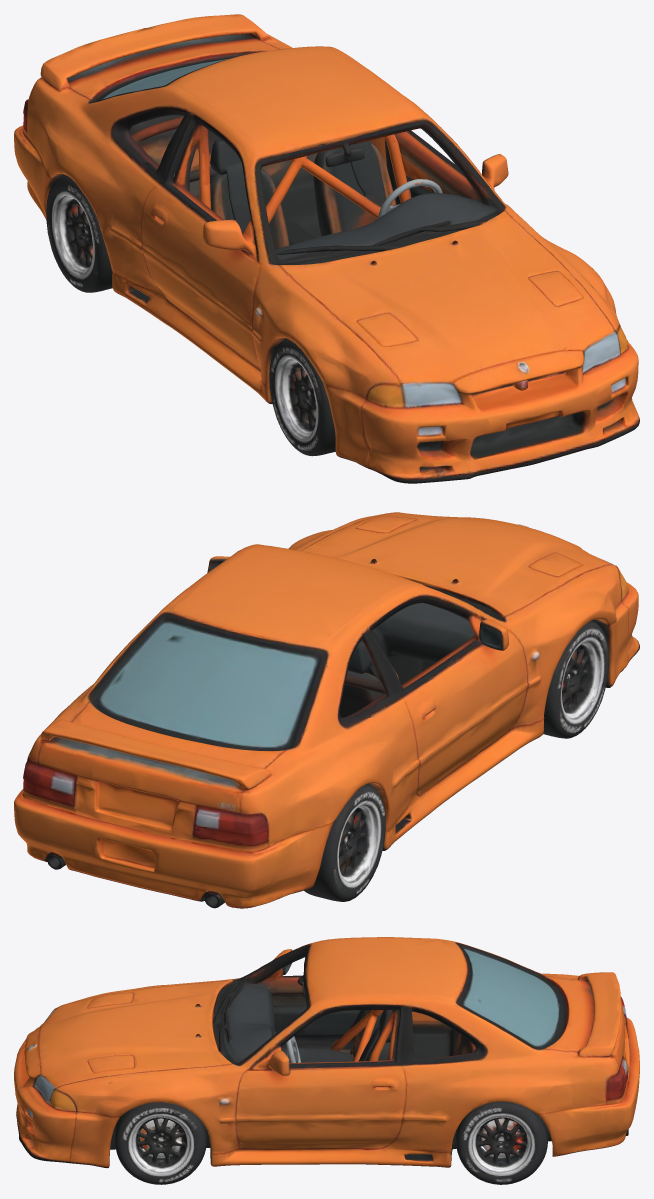
File: 015_track_widebody_orange.glb
3 views of the same model, one above another, from view 1: azimuth 30°, elevation 25°; view 2: azimuth 150°, elevation 25°; view 3: azimuth 270°, elevation 25° (orthographic). The views are drawn at different scales.
Visible parts, largest first — view 1: geometry_0; view 2: geometry_0; view 3: geometry_0.
Boxes of the visible parts, left/top/right/bottom form: geometry_0: left=14, top=14, right=639, bottom=483; geometry_0: left=14, top=512, right=639, bottom=908; geometry_0: left=14, top=937, right=639, bottom=1184.
Bounding box in the file's own units: 1.95 × 1.38 × 4.6.
1 material, 1 textured.
